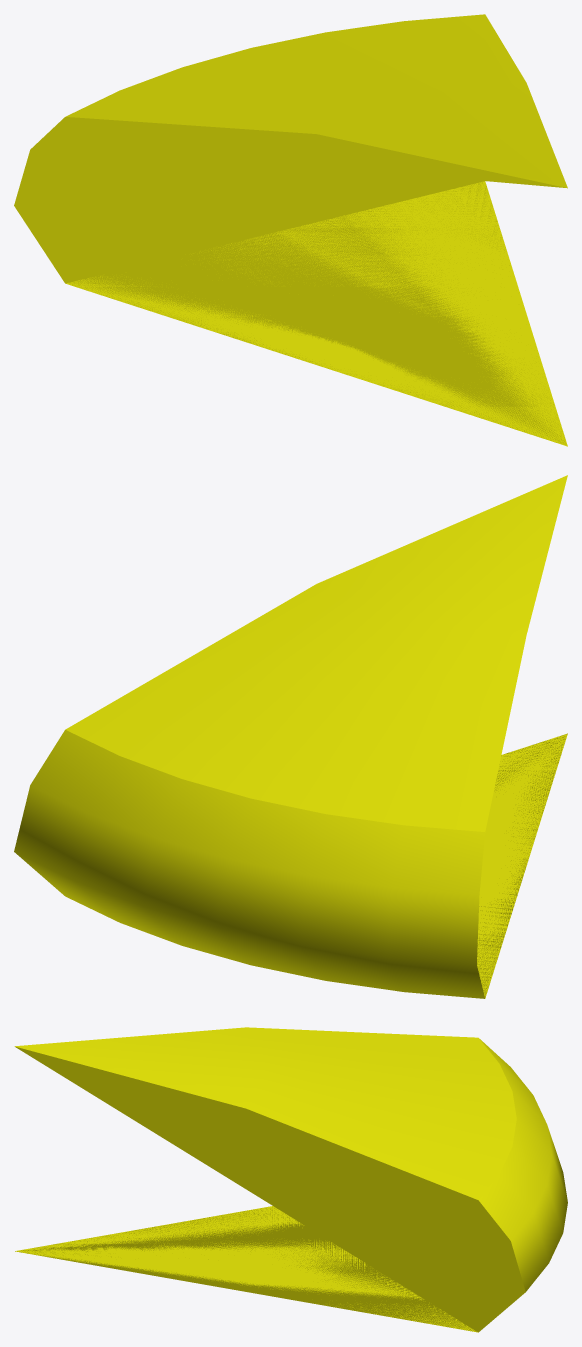
The model's file is body8_3.fbx.
3 views of the same model, one above another, from view 1: azimuth 30°, elevation 25°; view 2: azimuth 150°, elevation 25°; view 3: azimuth 270°, elevation 25° (orthographic). The views are drawn at different scales.
Parts seen in each view (by area): view 1: pCylinder242; view 2: pCylinder242; view 3: pCylinder242.
Part boxes in pixels (box(x1,y1,x2,y2)): pCylinder242: box(14, 14, 567, 446); pCylinder242: box(14, 475, 567, 998); pCylinder242: box(14, 1027, 567, 1332).
Bounding box in the file's own units: 3.42 × 1.82 × 4.47.
